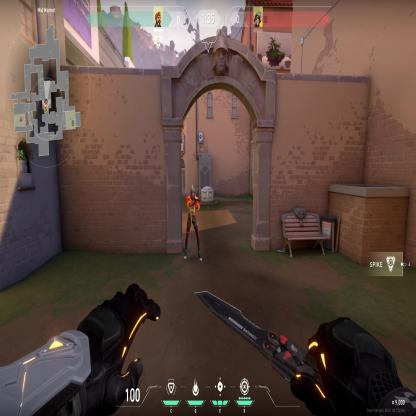enemy: (182, 183, 203, 262)
